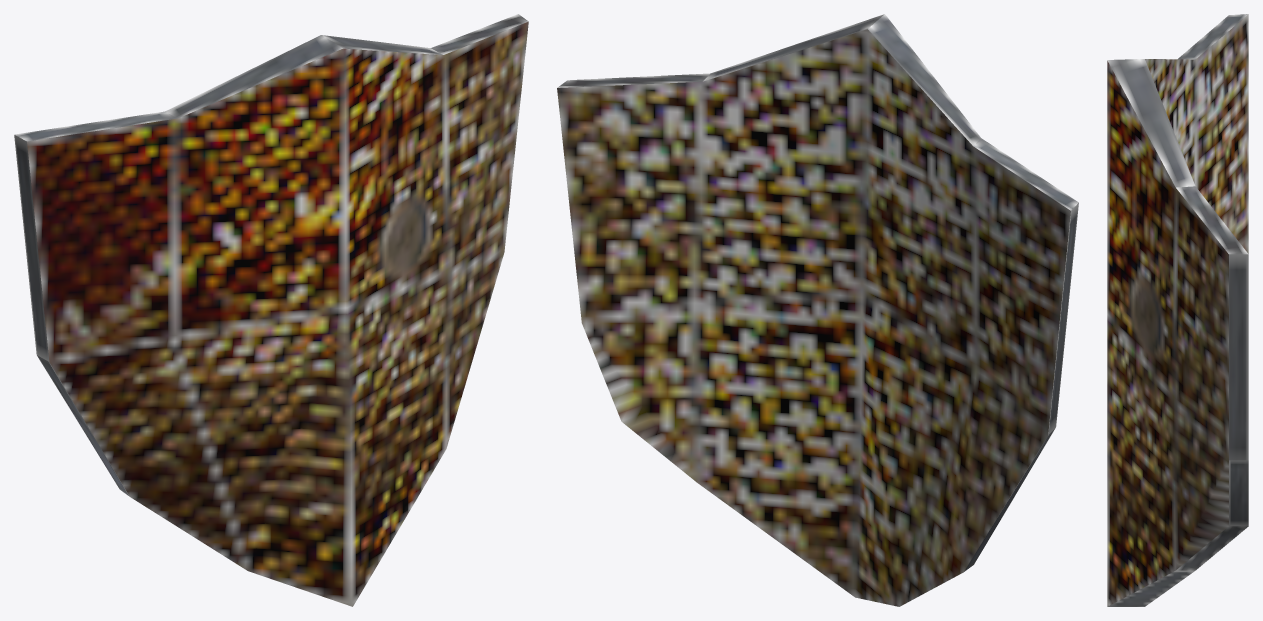
Rendered from Shield_PowerUP.fbx.
3 views of the same model, side by side, from view 1: azimuth 30°, elevation 25°; view 2: azimuth 150°, elevation 25°; view 3: azimuth 270°, elevation 25° (orthographic). The views are drawn at different scales.
Visible parts, largest first — view 1: pPlane1; view 2: pPlane1; view 3: pPlane1.
Boxes of the visible parts, <box> form: pPlane1: <box>14,14,528,606</box>; pPlane1: <box>557,14,1078,606</box>; pPlane1: <box>1107,14,1248,606</box>.
Size of the model in its own units: 4.46 by 4.74 by 1.12.
